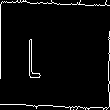L_N: (48, 29, 62, 81)
